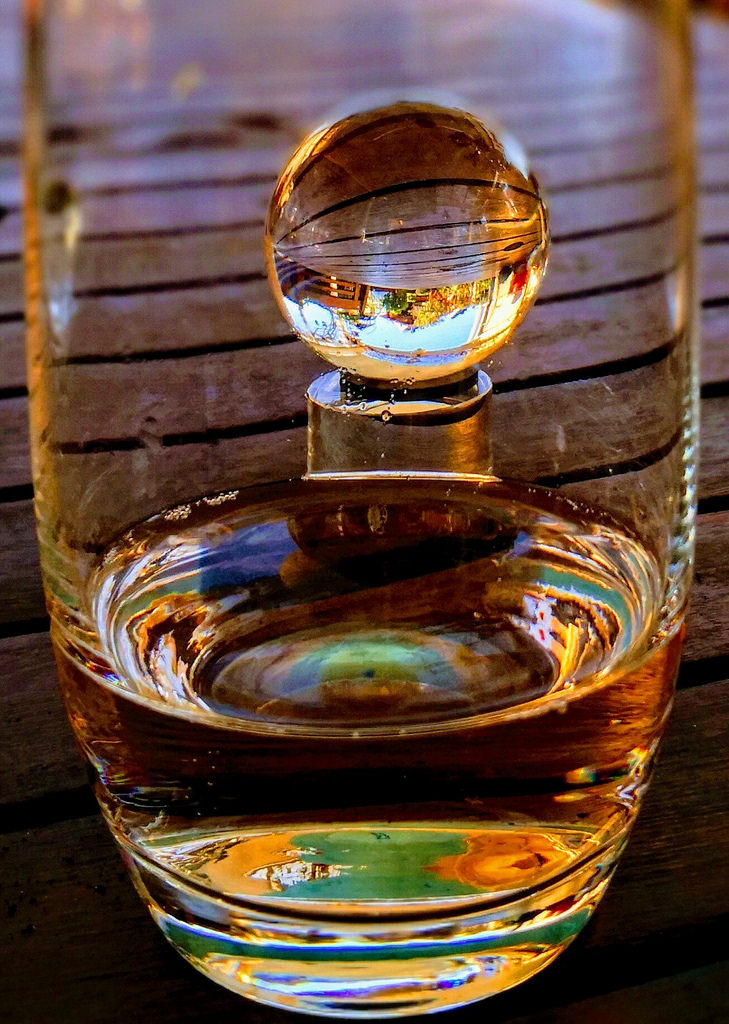glass of water: (22, 7, 673, 1013)
